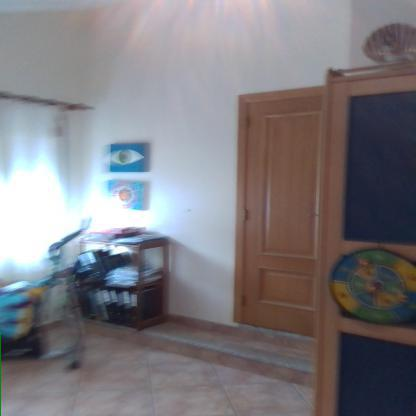door: (244, 102, 322, 340)
hinged: (242, 208, 249, 223), (240, 294, 247, 308), (245, 115, 250, 129)
lever: (304, 212, 321, 218)
